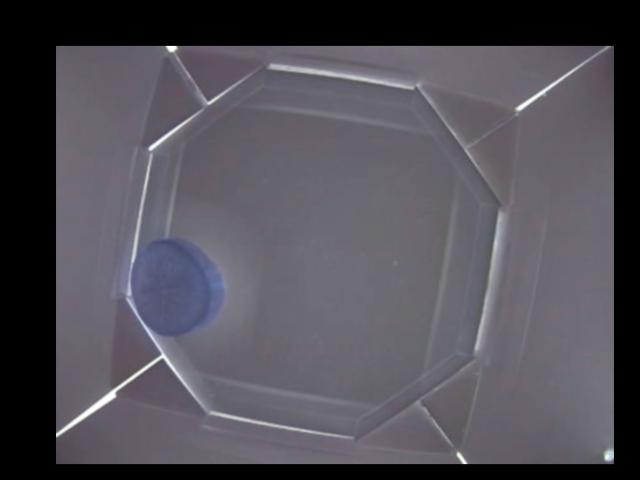Mooli: (125, 240, 224, 336)
